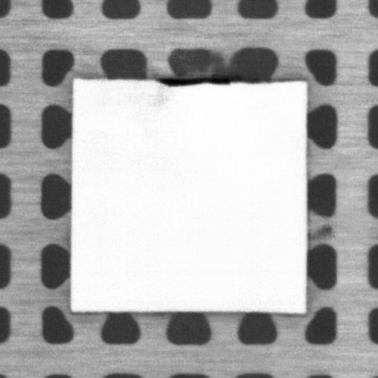DIE_BROKEN: (155, 75, 265, 89)
